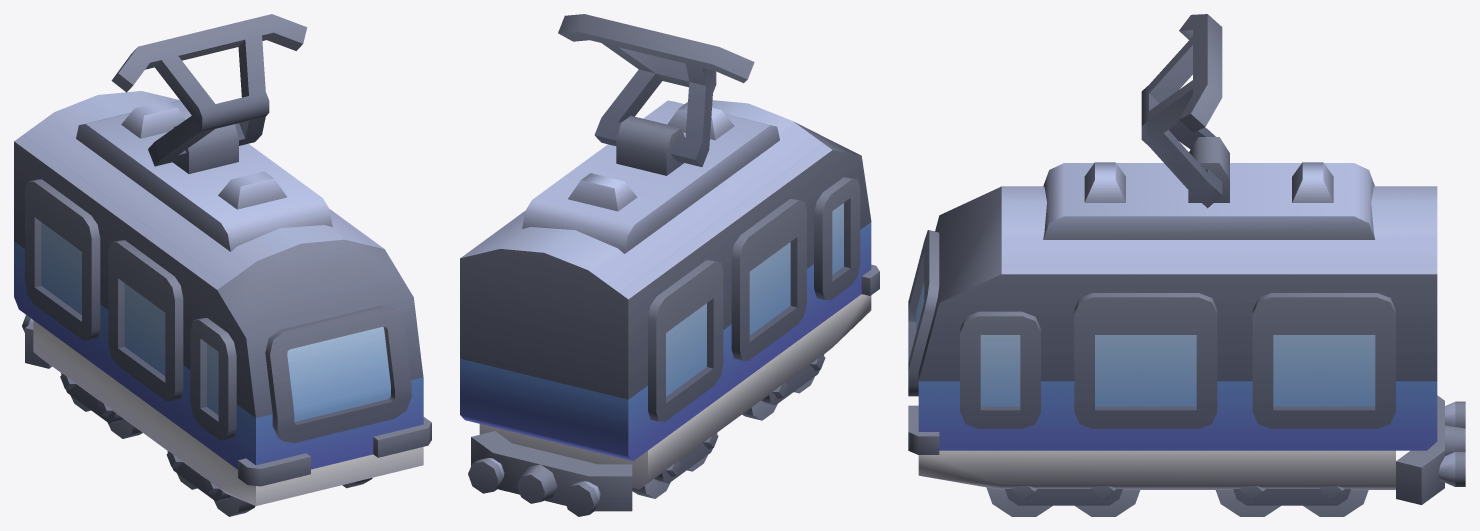
File: train-tram-modern.glb
The picture shows the model from 3 angles, left to right: view 1: azimuth 30°, elevation 25°; view 2: azimuth 150°, elevation 25°; view 3: azimuth 270°, elevation 25°; orthographic projection. The views are drawn at different scales.
Visible parts, largest first — view 1: train-tram-modern; view 2: train-tram-modern; view 3: train-tram-modern.
Boxes of the visible parts, bbox=[...] form: train-tram-modern: bbox=[14, 14, 431, 516]; train-tram-modern: bbox=[460, 14, 879, 516]; train-tram-modern: bbox=[908, 14, 1465, 516].
Bounding box in the file's own units: 1.13 × 2.3 × 2.69.
1 material, 1 textured.
